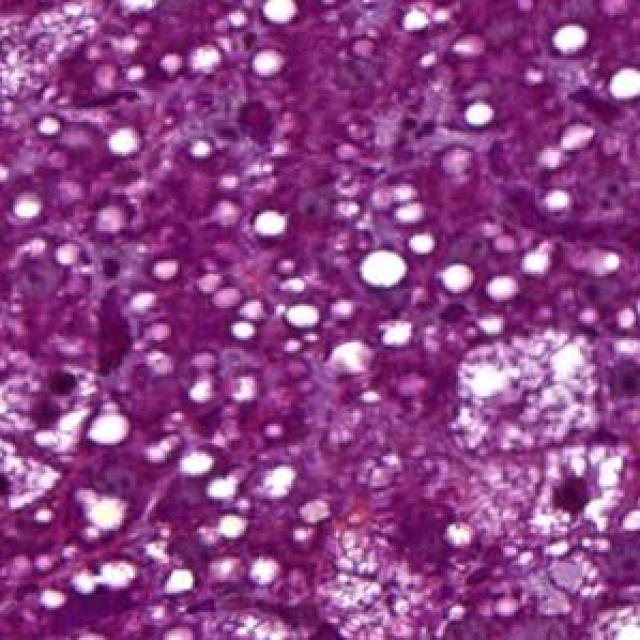ballooning: (458, 317, 606, 462), (527, 441, 627, 541)
